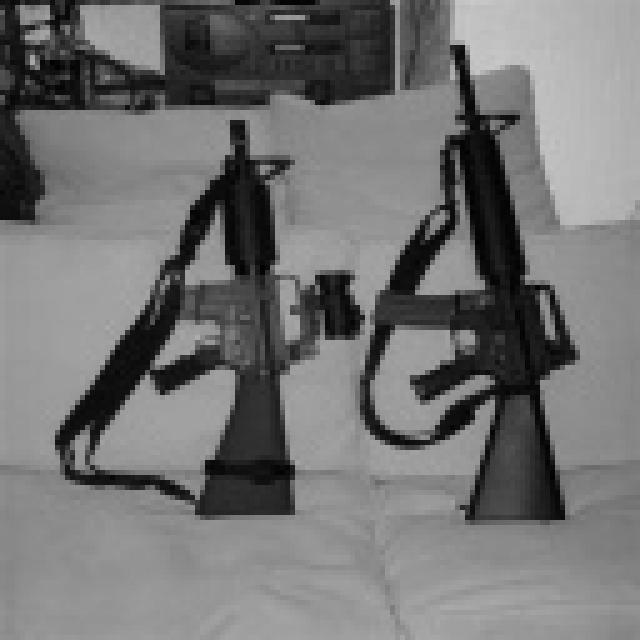Rifle: (50, 119, 368, 526), (396, 29, 596, 495), (378, 512, 423, 536)
